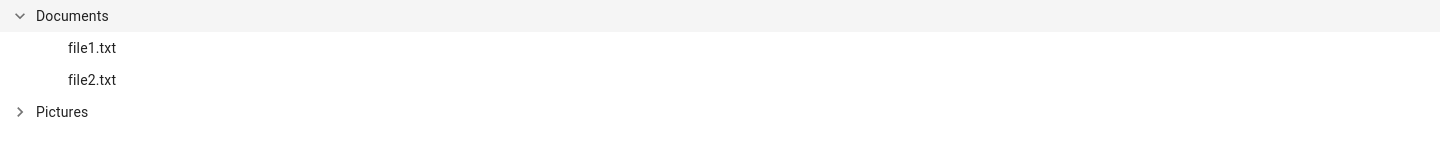
Test case: HandyTreeView - Basic Features › Expansion › should collapse item when clicked again
Expected: the text "file1.txt" is shown, [68,40,116,56]
Click the button "Documents".
click(72, 16)  # box [0,0,1439,32]
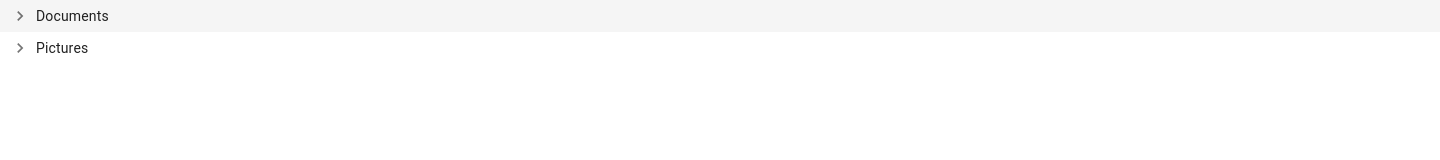
Result: the button "file1.txt" is gone
